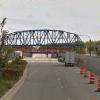Bridge: (8, 25, 80, 55)
